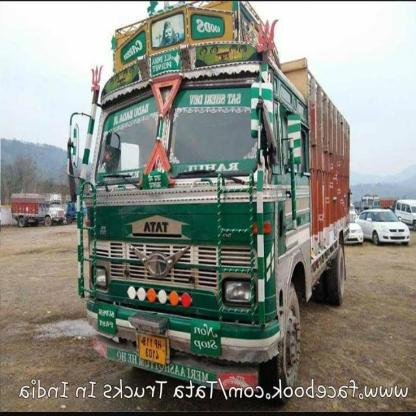truck: (75, 25, 355, 374), (8, 190, 64, 226), (360, 194, 398, 210)
